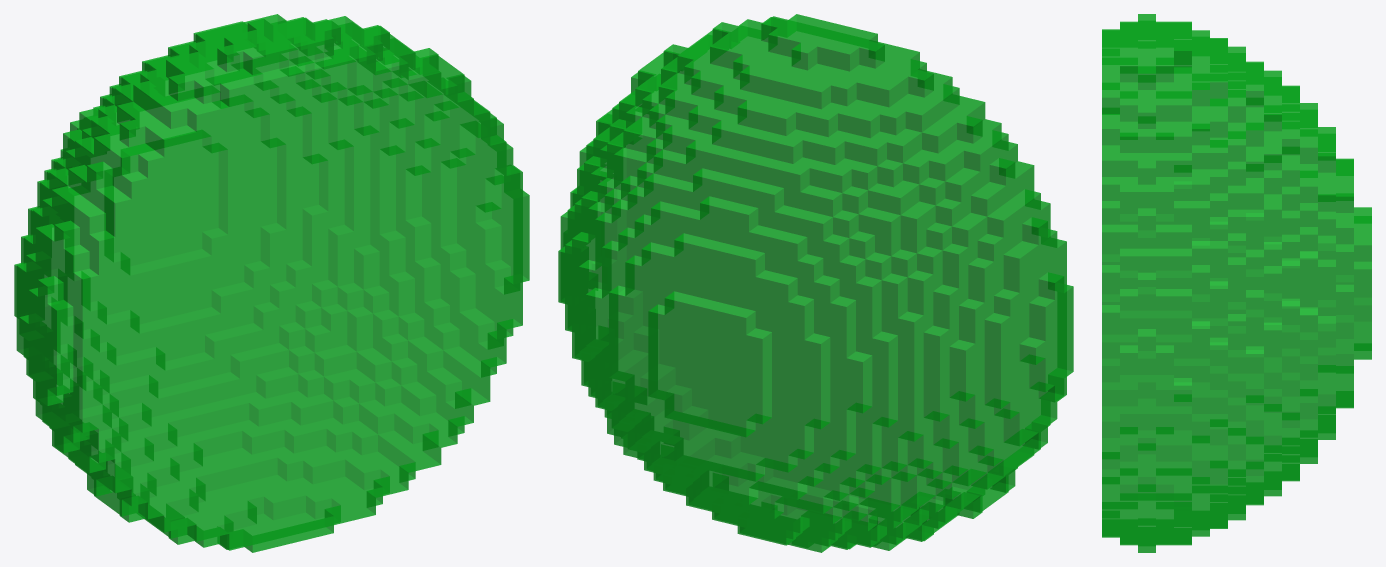
File: VoxelSlime.fbx
The picture shows the model from 3 angles, left to right: view 1: azimuth 30°, elevation 25°; view 2: azimuth 150°, elevation 25°; view 3: azimuth 270°, elevation 25°; orthographic projection. The views are drawn at different scales.
Parts seen in each view (by area): view 1: Mesh_Slime; view 2: Mesh_Slime; view 3: Mesh_Slime.
Boxes of the visible parts, x1=… form: Mesh_Slime: x1=14, y1=14, x2=529, y2=552; Mesh_Slime: x1=558, y1=14, x2=1073, y2=552; Mesh_Slime: x1=1102, y1=14, x2=1371, y2=552.
Bounding box in the file's own units: 201 × 201 × 104.
